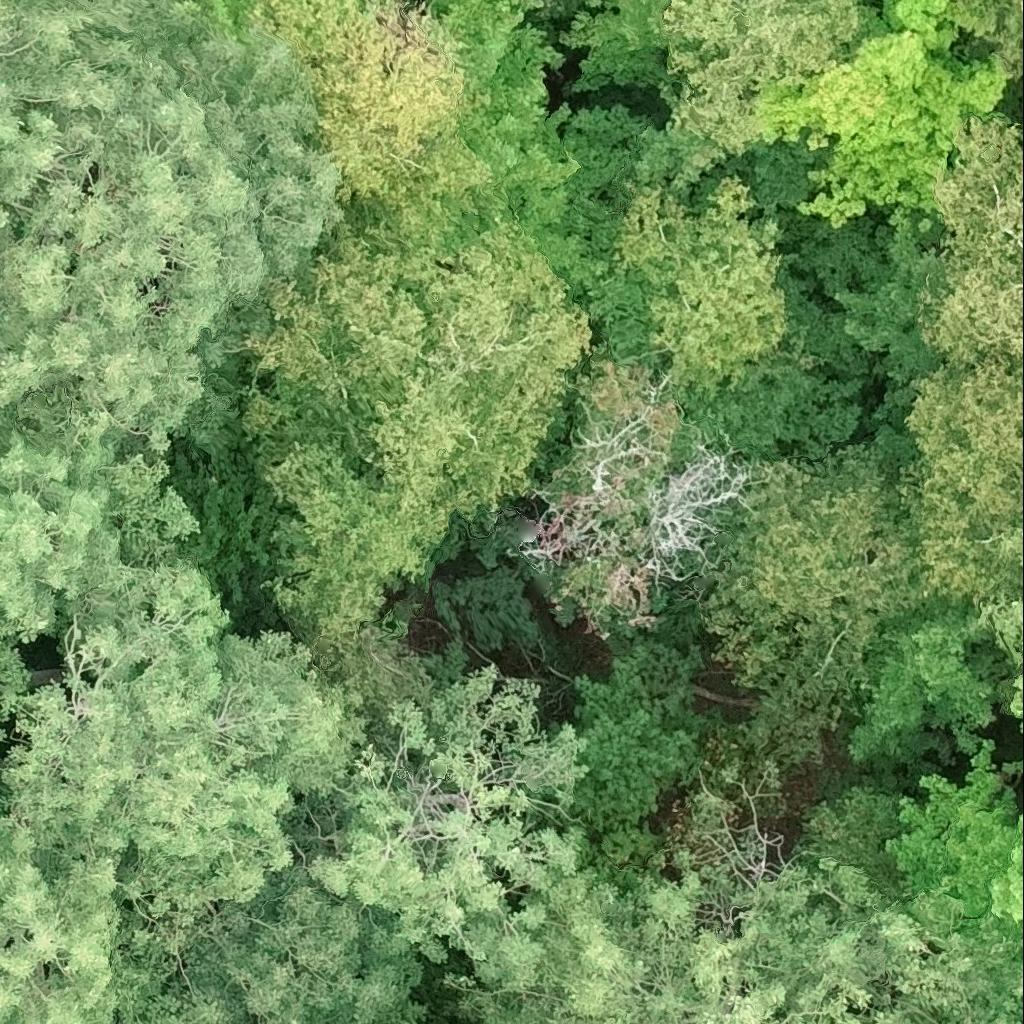crown: (0, 0, 338, 456), (1, 599, 371, 947), (229, 227, 592, 512), (0, 409, 227, 856), (313, 667, 584, 976), (478, 854, 926, 1023), (516, 365, 752, 637), (251, 0, 483, 251), (700, 445, 930, 690), (666, 673, 867, 912), (759, 30, 1004, 223), (154, 865, 424, 1023), (618, 168, 787, 399), (271, 444, 449, 659), (437, 107, 648, 288), (657, 0, 863, 182), (885, 363, 1023, 613), (0, 851, 198, 1023), (889, 747, 1023, 982), (850, 592, 1000, 760), (926, 117, 1023, 369), (432, 0, 568, 121), (857, 927, 1023, 1023), (571, 0, 668, 89), (883, 0, 951, 69), (185, 0, 256, 25), (997, 597, 1023, 661), (1005, 759, 1023, 777), (1020, 532, 1023, 560), (406, 0, 418, 6), (1020, 986, 1023, 1003), (1021, 685, 1023, 705)
